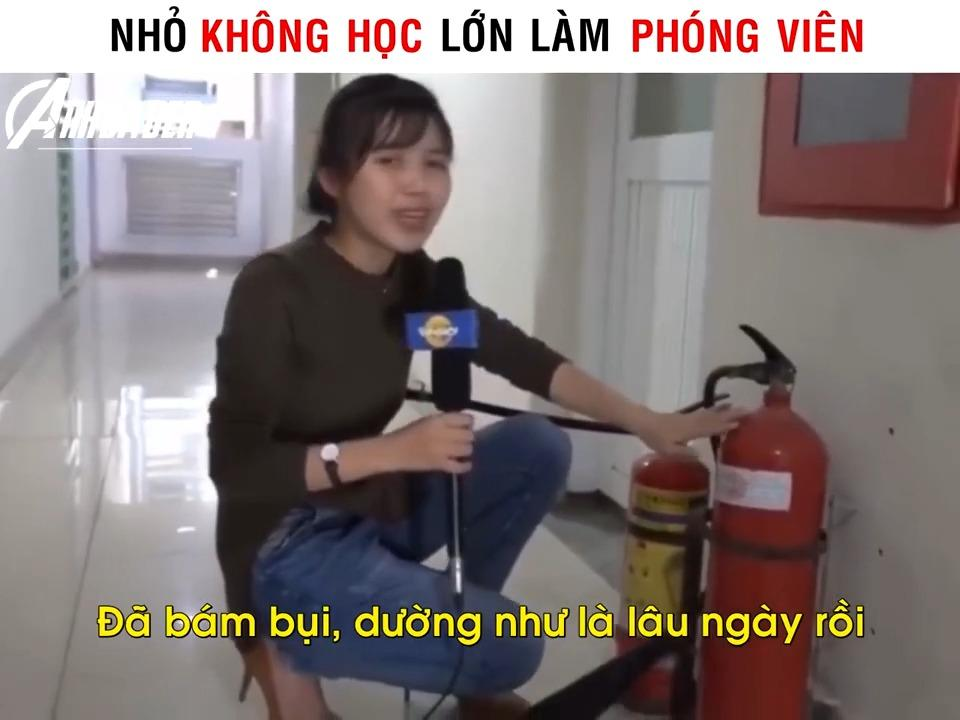FireExtinguisher: (695, 332, 840, 720), (594, 409, 707, 720)
